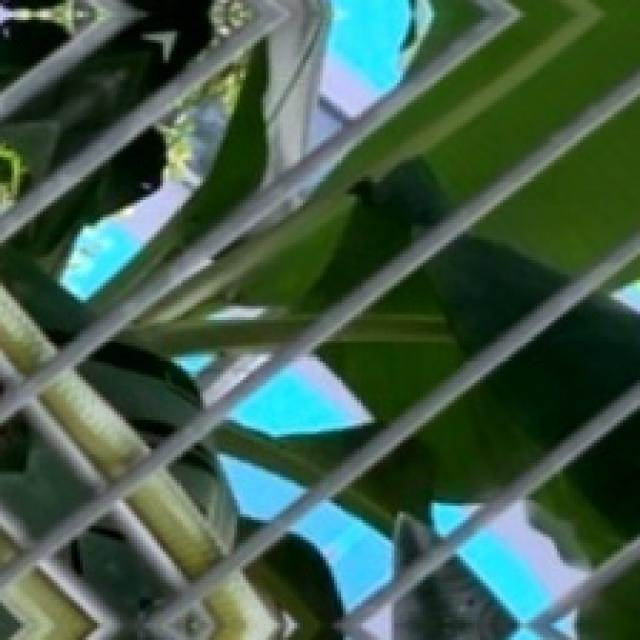paradise tree snake: (42, 372, 149, 479), (129, 471, 222, 576), (0, 569, 96, 640), (0, 286, 55, 372), (206, 574, 278, 639), (0, 532, 19, 564)
